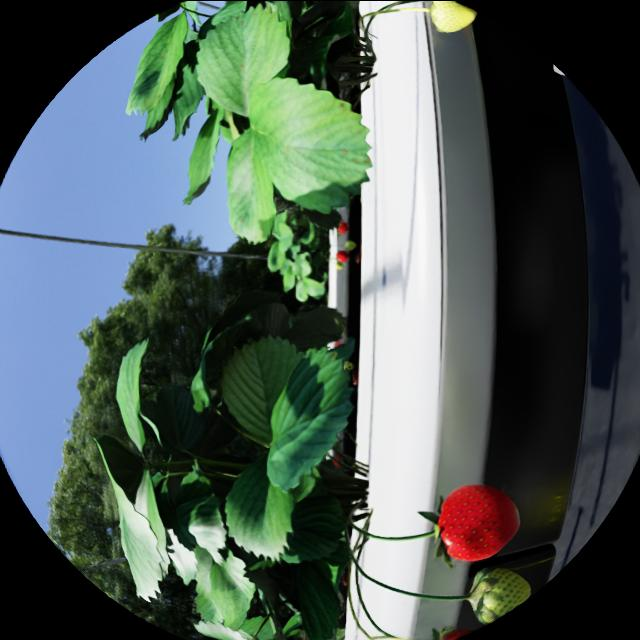Fruit-Stem-Detection: (354, 561, 469, 599), (355, 574, 385, 635), (352, 526, 434, 540)
